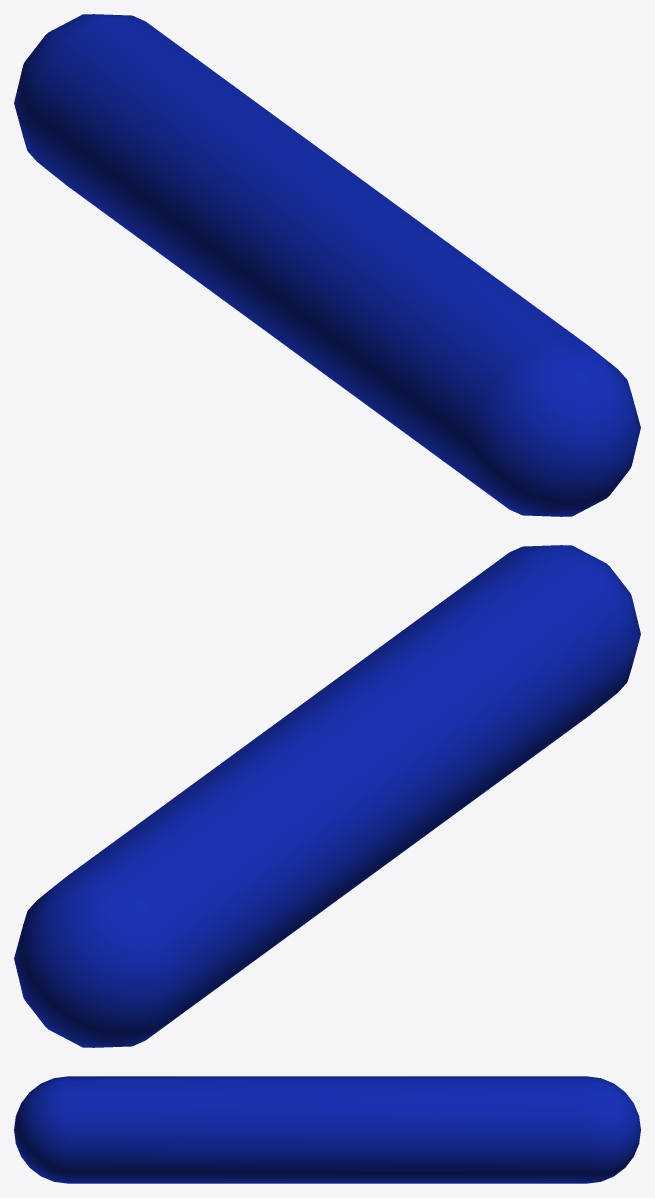
The model's file is Mapa14_TiroA.FBX.
3 views of the same model, one above another, from view 1: azimuth 30°, elevation 25°; view 2: azimuth 150°, elevation 25°; view 3: azimuth 270°, elevation 25° (orthographic). The views are drawn at different scales.
Parts seen in each view (by area): view 1: TiroA_Mapa14; view 2: TiroA_Mapa14; view 3: TiroA_Mapa14.
Boxes of the visible parts, <box> form: TiroA_Mapa14: <box>14,14,640,516</box>; TiroA_Mapa14: <box>14,545,640,1047</box>; TiroA_Mapa14: <box>14,1076,640,1183</box>.
Size of the model in its own units: 8.98 by 8.98 by 52.32.
